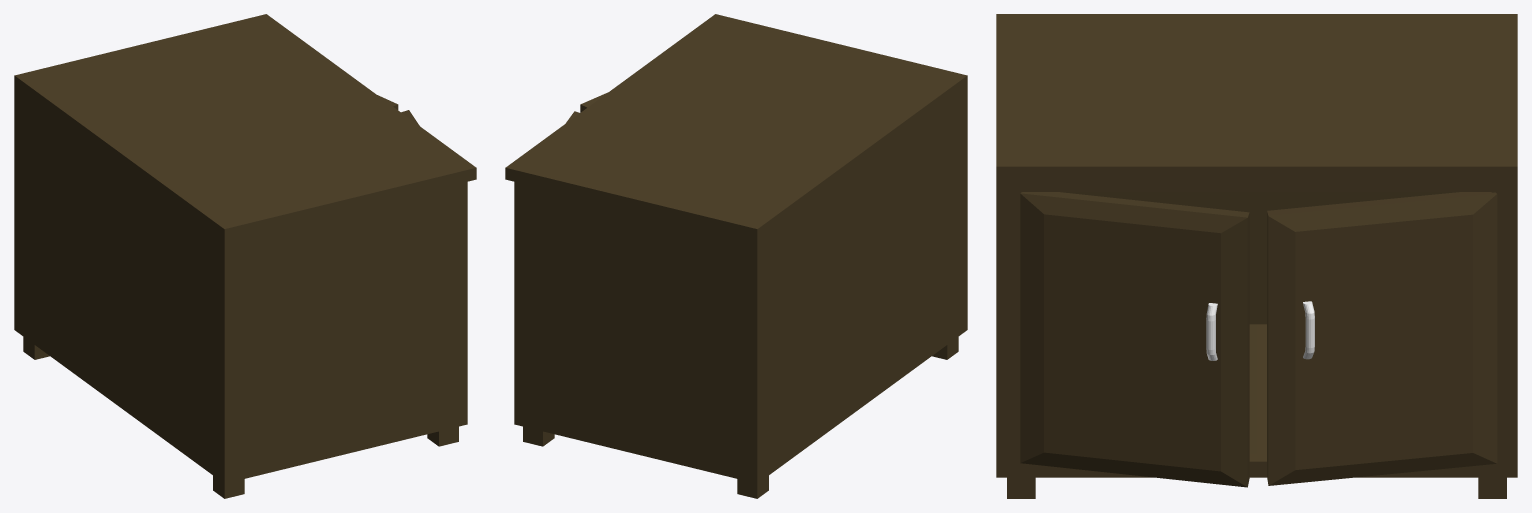
File: Kitchen drawer.fbx
3 renders of one model, left to right at view 1: azimuth 30°, elevation 25°; view 2: azimuth 150°, elevation 25°; view 3: azimuth 270°, elevation 25°, orthographic. The views are drawn at different scales.
Visible parts, largest first — view 1: kitchen Stuff; view 2: kitchen Stuff; view 3: kitchen Stuff.
Part boxes in pixels (box(x1,y1,x2,y2)): kitchen Stuff: box(14, 14, 476, 498); kitchen Stuff: box(505, 14, 967, 498); kitchen Stuff: box(996, 14, 1517, 498).
Bounding box in the file's own units: 240 × 215 × 299.
